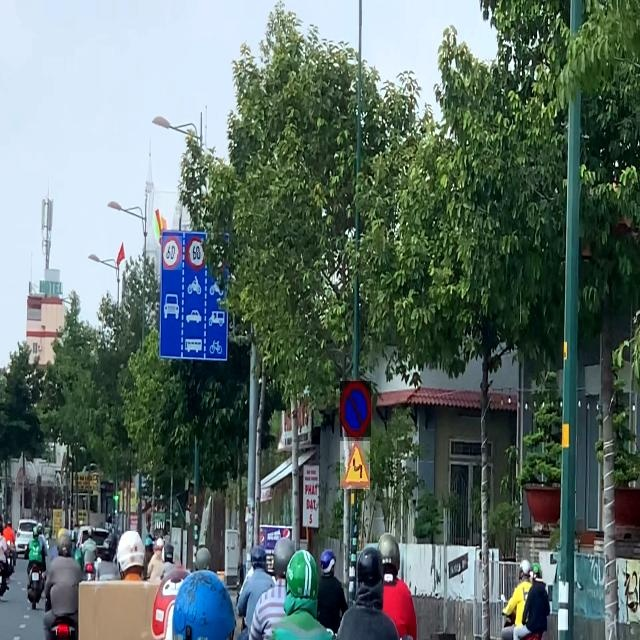bien_chi_dan: (340, 381, 371, 437), (340, 441, 370, 489), (163, 236, 182, 270), (186, 237, 204, 271)
